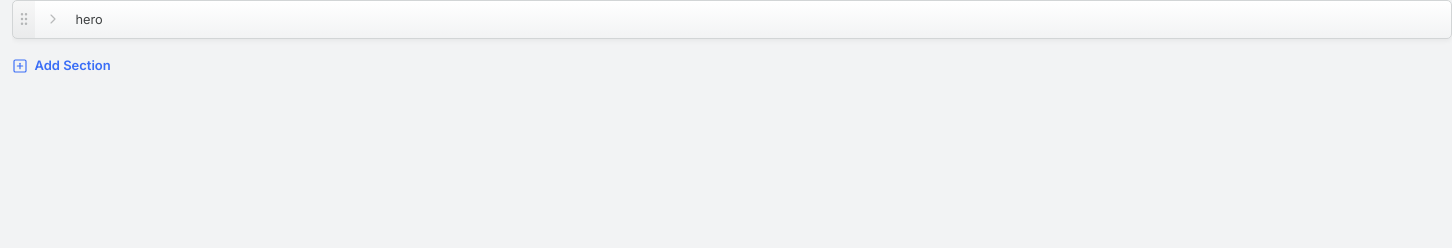
it: SectionList › K4: a section with no allowedBlocks offers every block type (regression)
This screenshot has width=1452, height=248.
Click the button named "Expand" at point(53, 19), box [39,5,67,33]
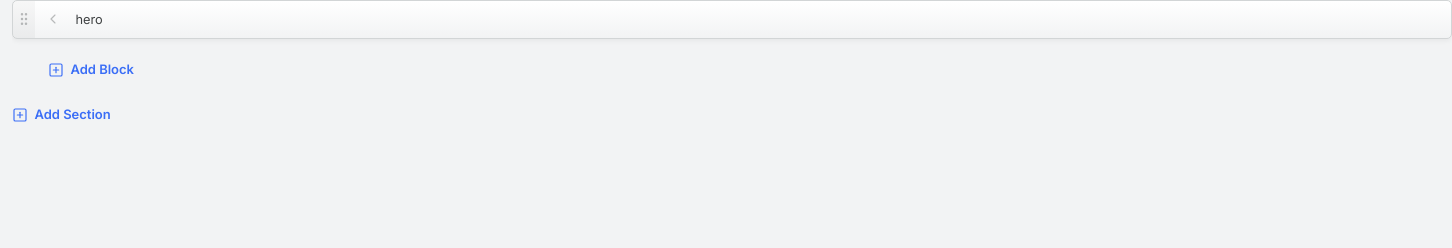
Click the button "Add Block" at point(91, 70), box [48,52,134,88]
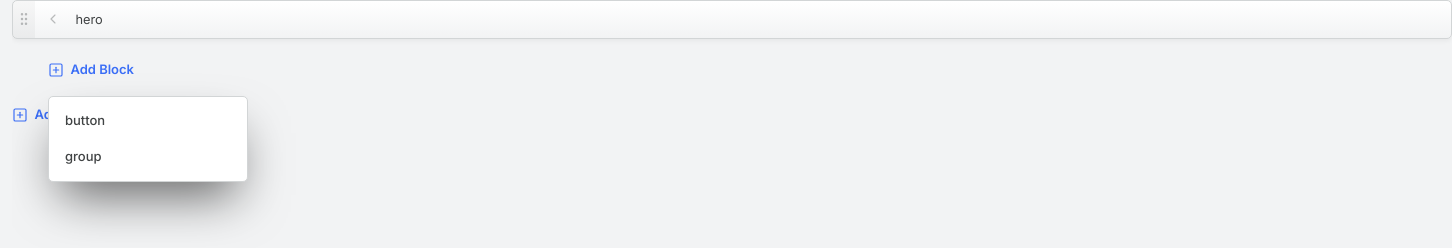
expect the menu items read "button", "group", in this order: met, box [55,103,241,139]; [55,139,241,174]
